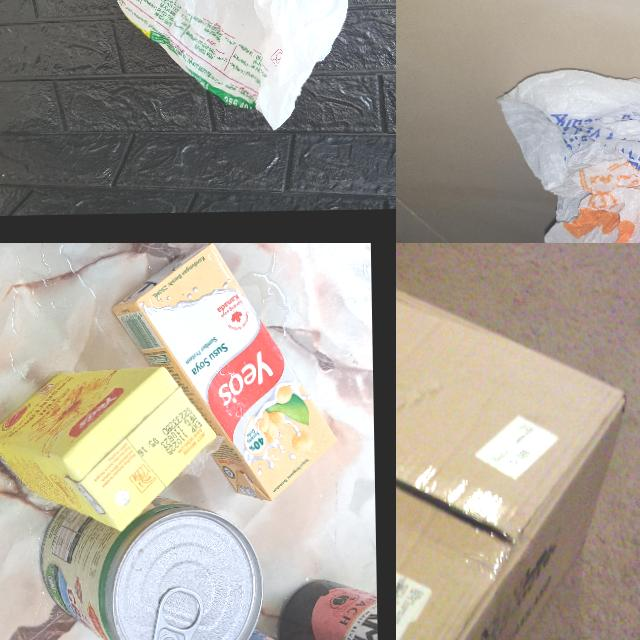aba de lata: (150, 576, 200, 640)
caixinha: (101, 243, 341, 500), (0, 364, 214, 530)
garrafa de vidro: (278, 557, 378, 640)
lata: (40, 491, 258, 640)
papelão: (396, 243, 633, 640)
sacola plástica: (95, 0, 396, 135), (494, 55, 640, 243)
